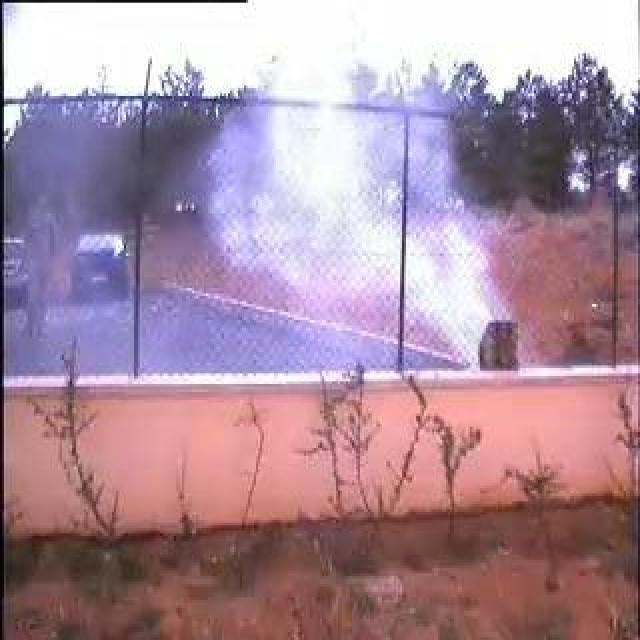Smoke: (202, 72, 514, 355)
